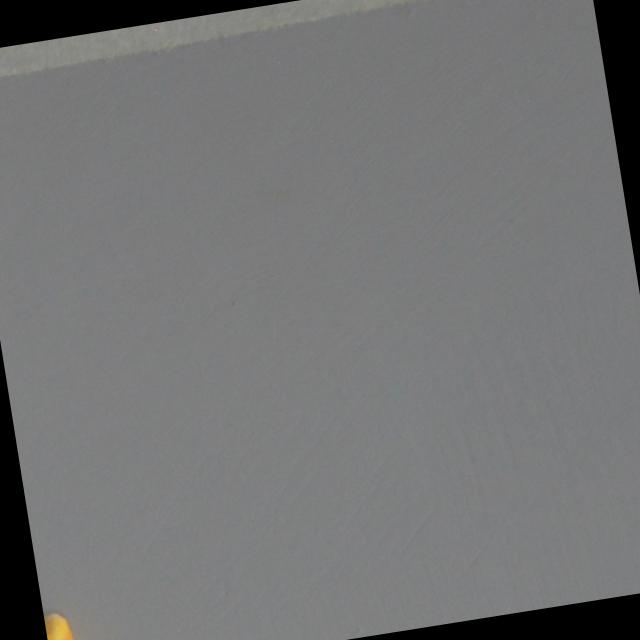no_canjicado: (42, 608, 75, 640)
